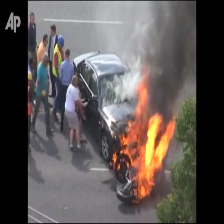fire_h: (121, 59, 176, 198)
fire_l: (117, 158, 129, 169), (112, 150, 117, 169)
